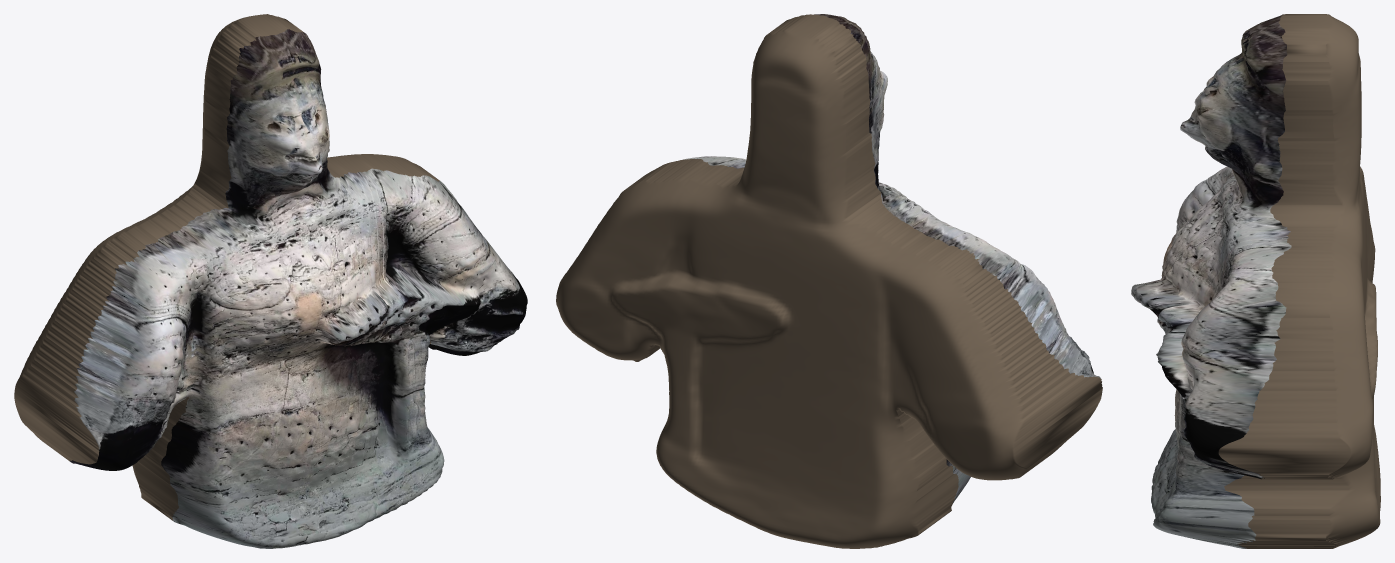
3 views of the same model, side by side, from view 1: azimuth 30°, elevation 25°; view 2: azimuth 150°, elevation 25°; view 3: azimuth 270°, elevation 25° (orthographic). The views are drawn at different scales.
Visible parts, largest first — view 1: 石面留痕; view 2: 石面留痕; view 3: 石面留痕.
Part boxes in pixels (box(x1,y1,x2,y2)): 石面留痕: box(14, 14, 527, 548); 石面留痕: box(556, 14, 1102, 548); 石面留痕: box(1131, 14, 1380, 548).
Size of the model in its own units: 2.06 by 2.11 by 0.9472.
2 materials, 1 textured.
